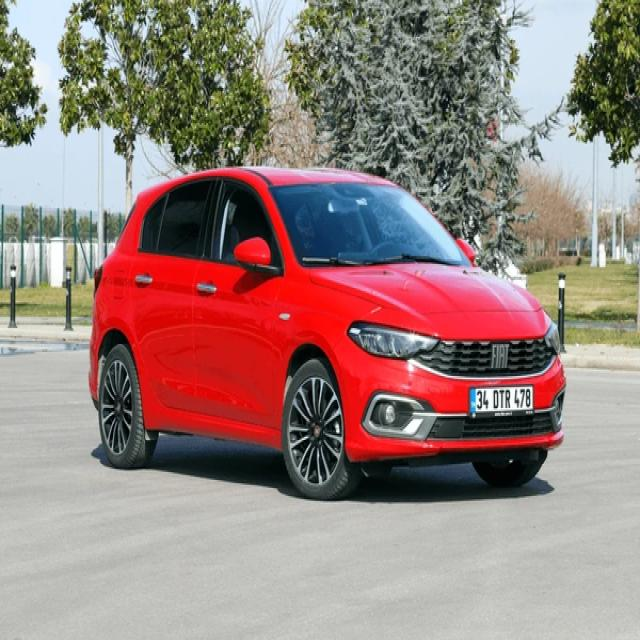fiat: (489, 340, 510, 371)
